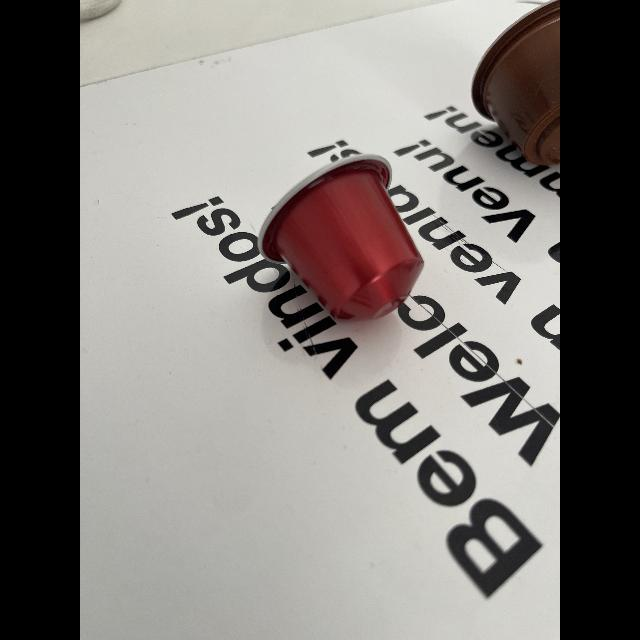intact_capsule: (252, 142, 434, 346)
